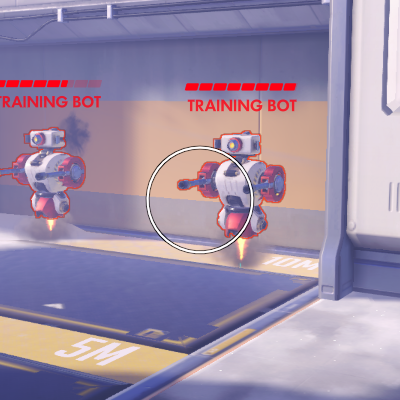hpbar: (184, 82, 297, 91), (1, 79, 102, 88)
